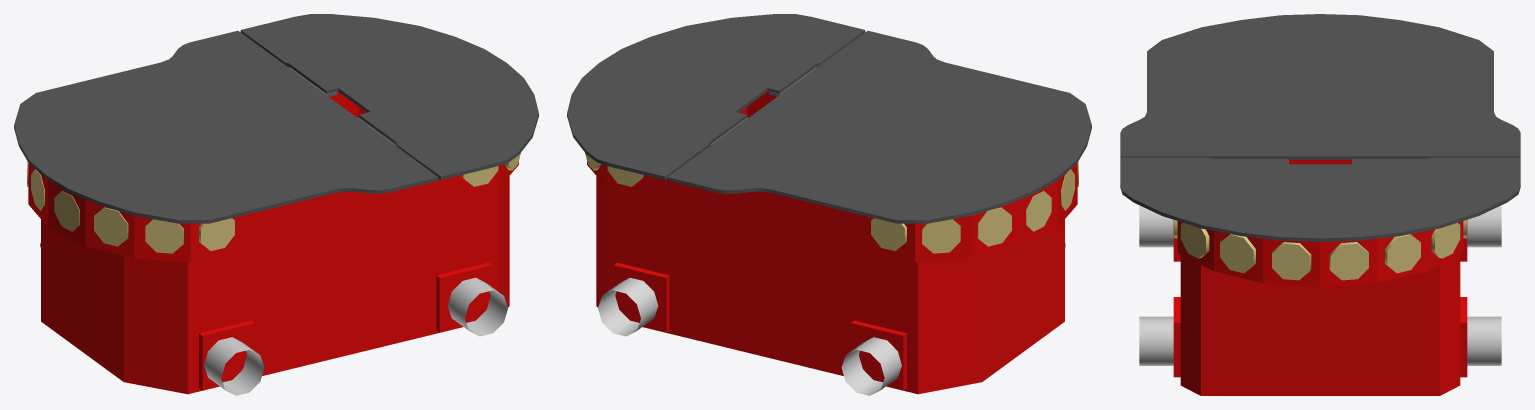
The model's file is chasis.dae.
3 renders of one model, left to right at view 1: azimuth 30°, elevation 25°; view 2: azimuth 150°, elevation 25°; view 3: azimuth 270°, elevation 25°, orthographic.
Parts seen in each view (by area): view 1: Cube; view 2: Cube; view 3: Cube.
Boxes of the visible parts, x1,y1,x2,y2 form: Cube: (14, 14, 538, 395); Cube: (567, 14, 1091, 395); Cube: (1120, 14, 1520, 395).
Bounding box in the file's own units: 0.5082 × 0.3831 × 0.1956.
